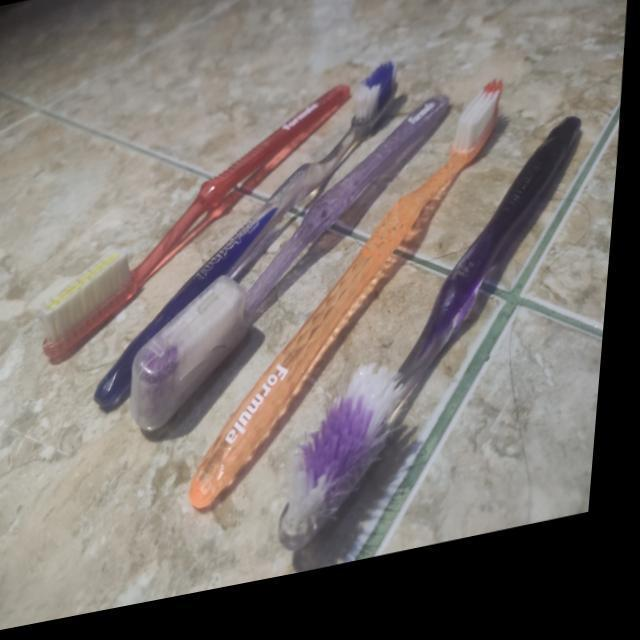toothbrush: (275, 127, 595, 581), (188, 99, 514, 524), (88, 61, 430, 430), (132, 90, 475, 452), (35, 81, 367, 368)
